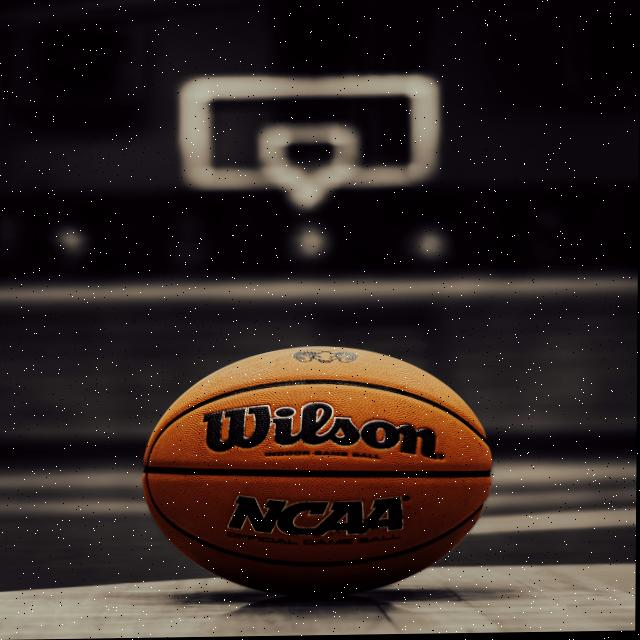Basketball: (145, 343, 492, 600)
